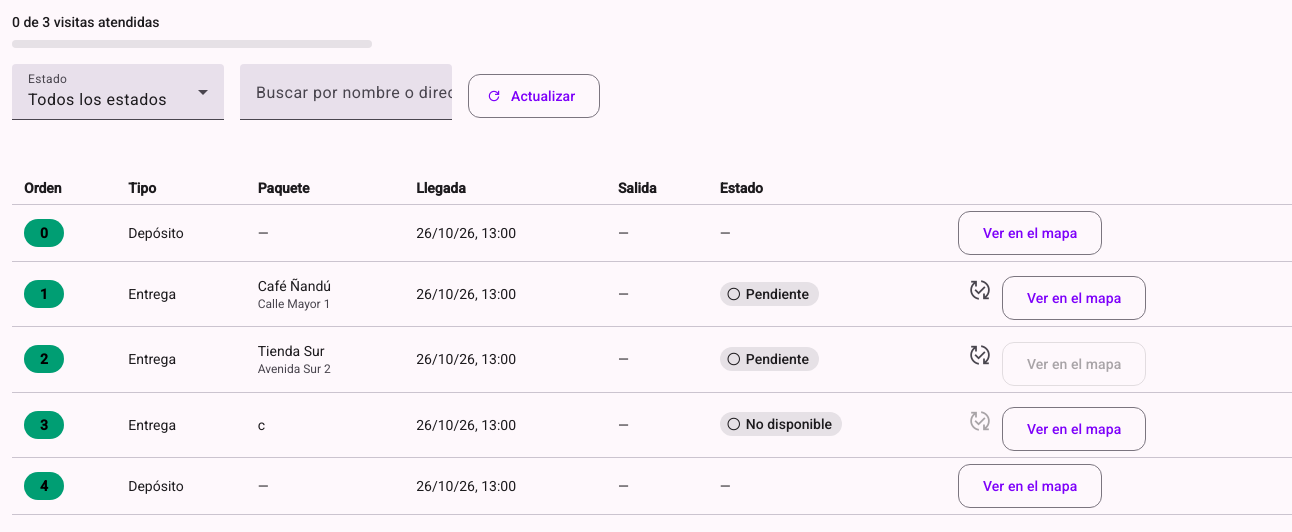
Test case: RouteVisitsComponent › filtros › sin coincidencias avisa y «Limpiar filtros» restaura la tabla
In the search field labelled "Buscar por nombre o dirección": (346, 100) [256,88,436,112], type "no existe"
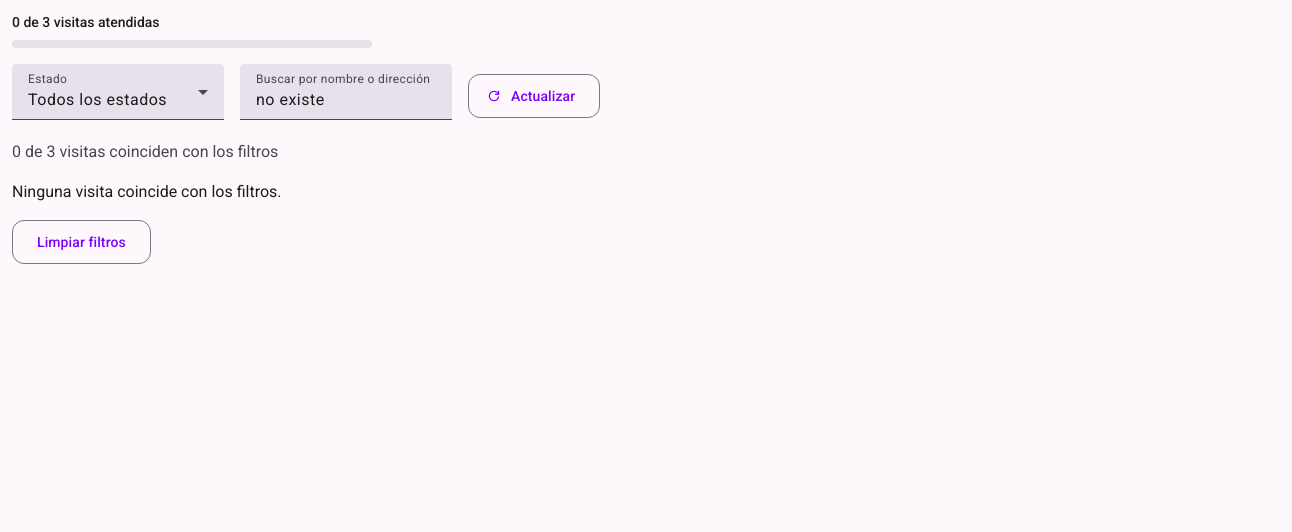
Check: the text "Ninguna visita coincide con los filtros" is shown, box [12,182,282,201]
Click the button "Limpiar filtros": (81, 242) [12,220,151,264]
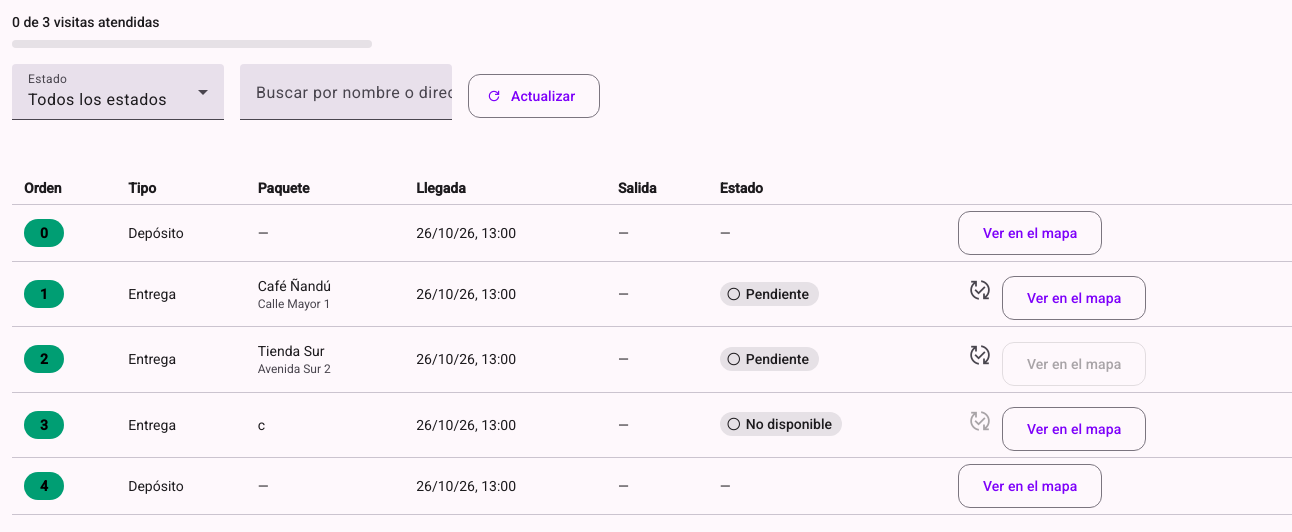
Check: the dropdown labelled "Estado" shows "Todos los estados", box [28,88,208,112]
Check: the search field labelled "Buscar por nombre o dirección" is empty, box [256,88,436,112]
